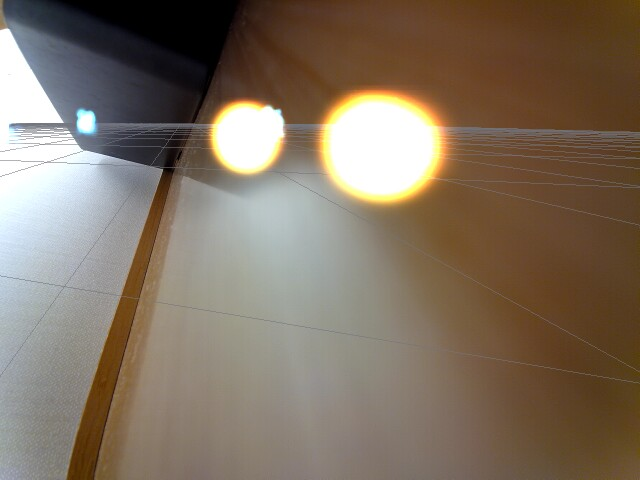firebig: (316, 81, 452, 207)
